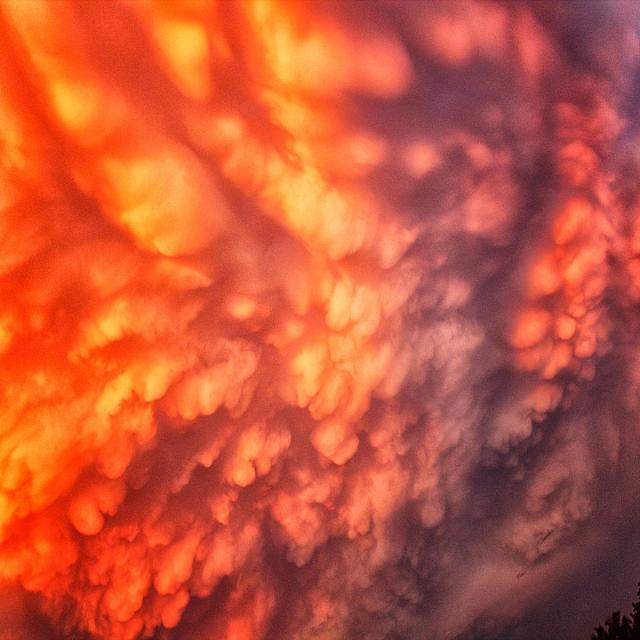altocumulus: (9, 39, 610, 620)
